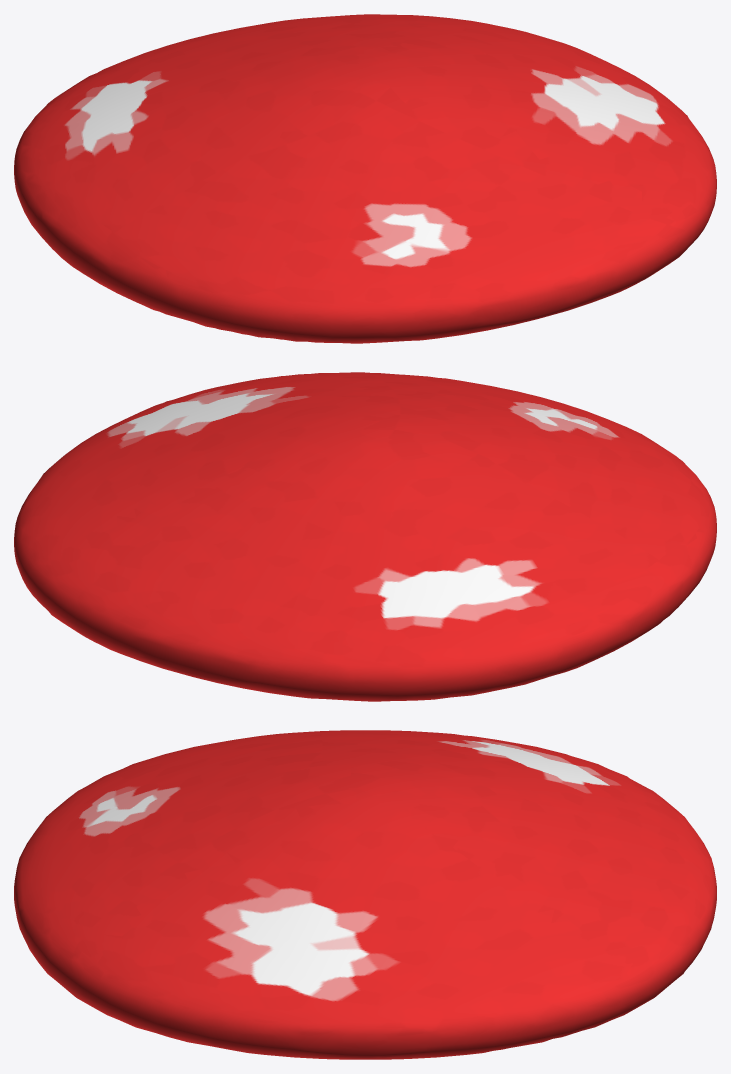
File: MushroomPlatform(idk y this is here but just keep it ig).fbx
3 views of the same model, one above another, from view 1: azimuth 30°, elevation 25°; view 2: azimuth 150°, elevation 25°; view 3: azimuth 270°, elevation 25° (orthographic). The views are drawn at different scales.
Parts seen in each view (by area): view 1: Cube; view 2: Cube; view 3: Cube.
Boxes of the visible parts, x1=… form: Cube: x1=14, y1=14, x2=716, y2=343; Cube: x1=14, y1=372, x2=716, y2=701; Cube: x1=14, y1=730, x2=716, y2=1059.
Size of the model in its own units: 183 by 37.5 by 183.
